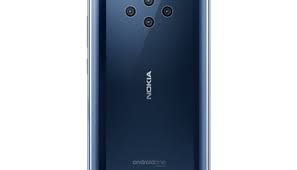nokia: (84, 1, 213, 170)
